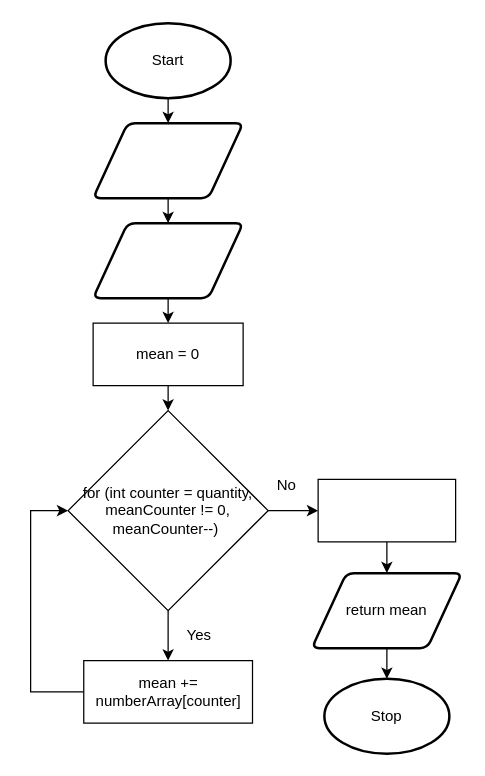
Image size: 485x776. Some labels were removed from this diagram. The centre of each missing label's shape, as x and y in pixels:
get integer[ ] numberArray: the point at 167,160
get quantity: the point at 167,260
mean /= quantity: the point at 386,510
